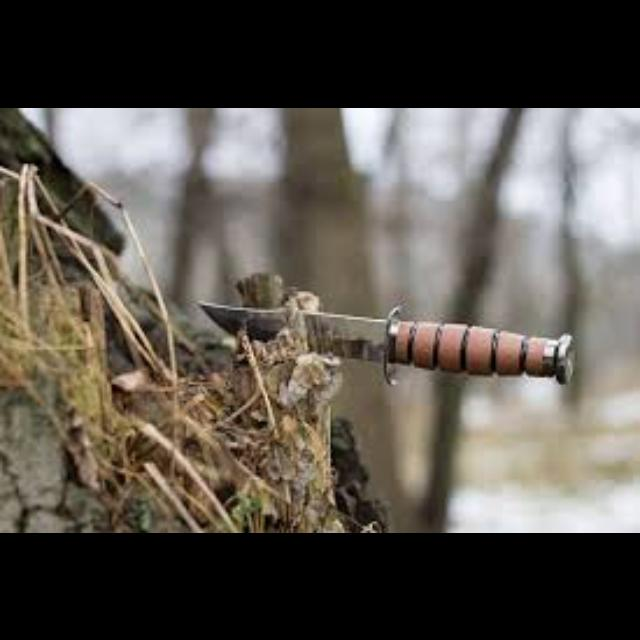Knife: (196, 298, 574, 386)
